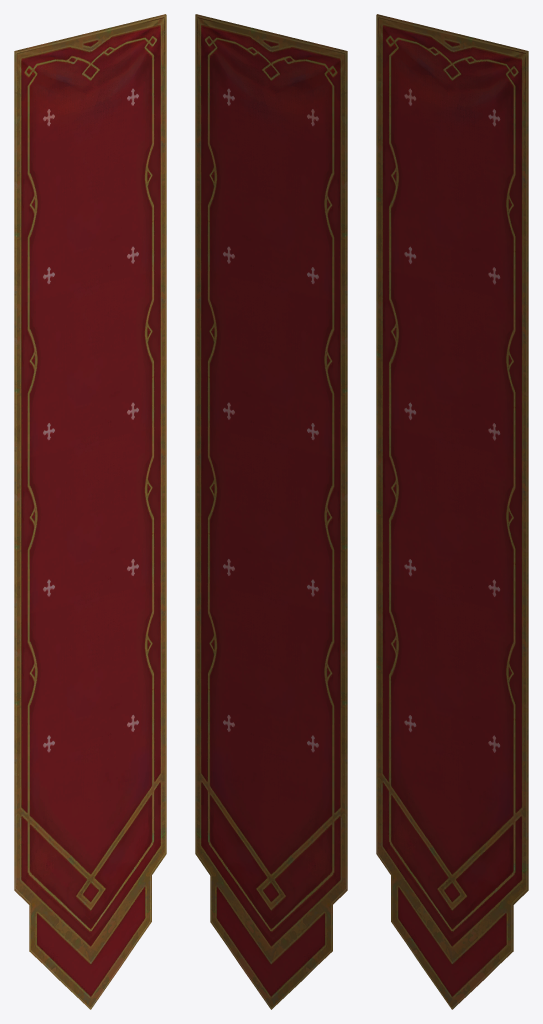
Rendered from Area_MdBuild_Flag01L_Vo_1162_3.fbx.
3 renders of one model, left to right at view 1: azimuth 30°, elevation 25°; view 2: azimuth 150°, elevation 25°; view 3: azimuth 330°, elevation 25°, orthographic.
Visible parts, largest first — view 1: Area_MdBuild_Flag01L_Vo_1162_3; view 2: Area_MdBuild_Flag01L_Vo_1162_3; view 3: Area_MdBuild_Flag01L_Vo_1162_3.
Boxes of the visible parts, <box> form: Area_MdBuild_Flag01L_Vo_1162_3: <box>14,14,166,1009</box>; Area_MdBuild_Flag01L_Vo_1162_3: <box>195,14,347,1009</box>; Area_MdBuild_Flag01L_Vo_1162_3: <box>376,14,528,1009</box>.
Bounding box in the file's own units: 1.48 × 9.09 × 0.0115.
